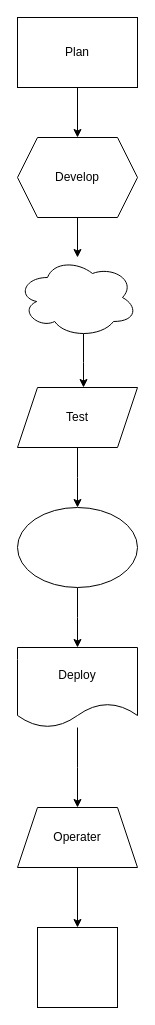
The diagram is 155 pixels wide and 1025 high, and some of its shapes have lost their labels. Here are the shapes that lost their labels. From the top down, the centre of each, then its label:
At [77,297]: "Built".
At [77,547]: "Release".
At [77,967]: "Monitor".
